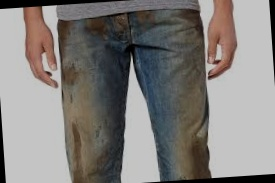earth: (68, 124, 85, 183), (190, 142, 210, 180), (58, 19, 72, 45), (61, 65, 79, 83), (88, 18, 107, 35), (138, 12, 157, 29)
